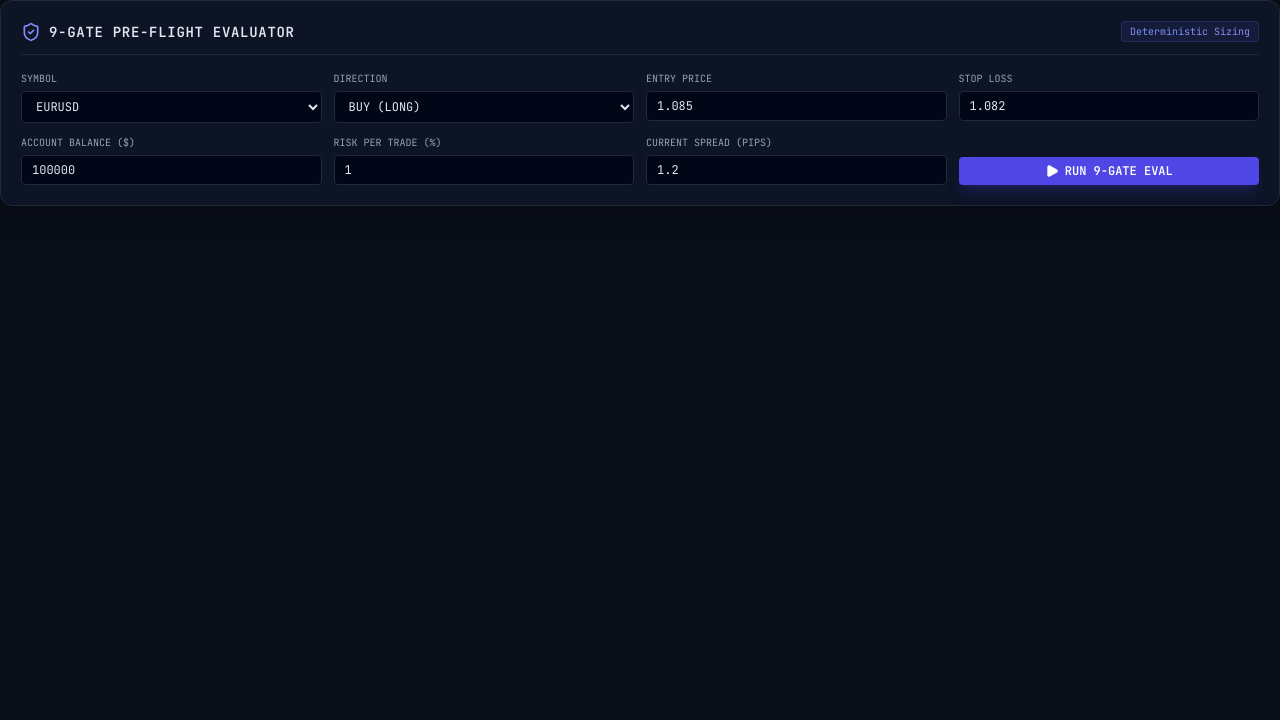
Test: PreFlightTerminal Component › displays REJECTED verdict and failure reasons when gate rejects
Click the button "RUN 9-GATE EVAL" at {"x": 1109, "y": 171}, box [958,157,1259,185]
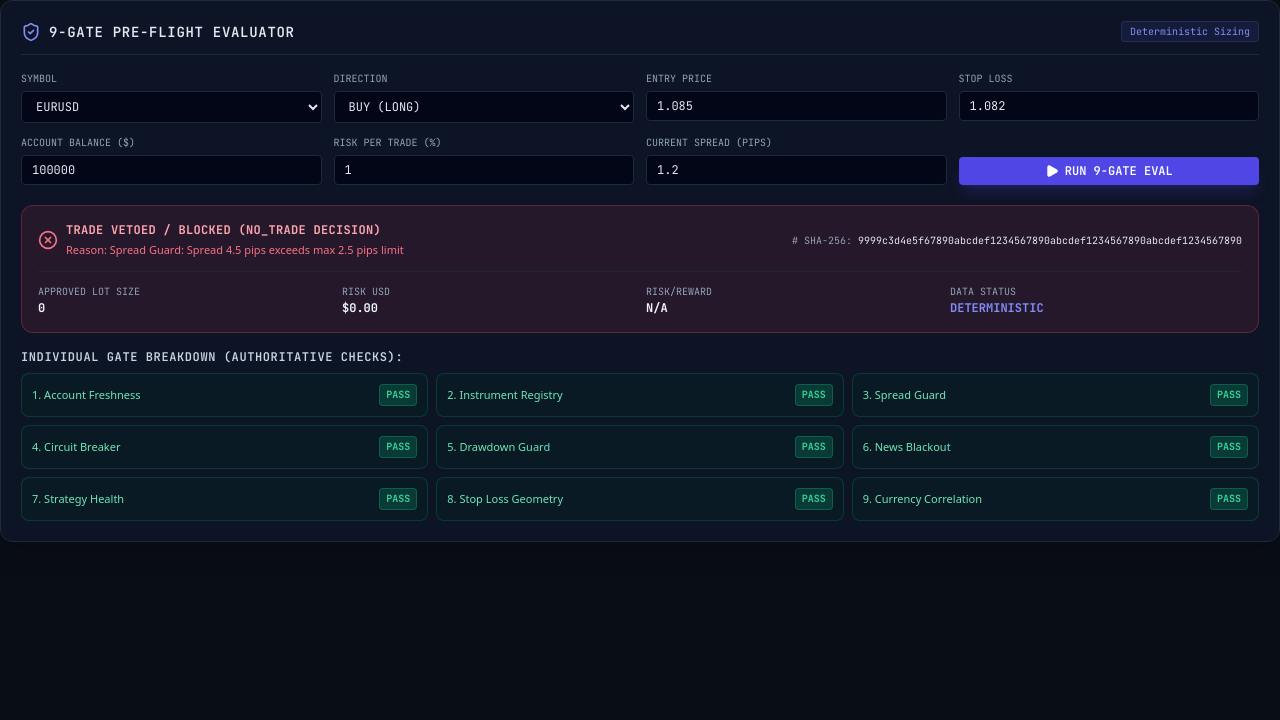
Expected: the text "TRADE VETOED / BLOCKED (NO_TRADE DECISION)" is shown, [66,222,404,238]
Expected: the text "Spread Guard: Spread 4.5 pips exceeds max 2.5 pips limit" is shown, [110,242,404,257]
